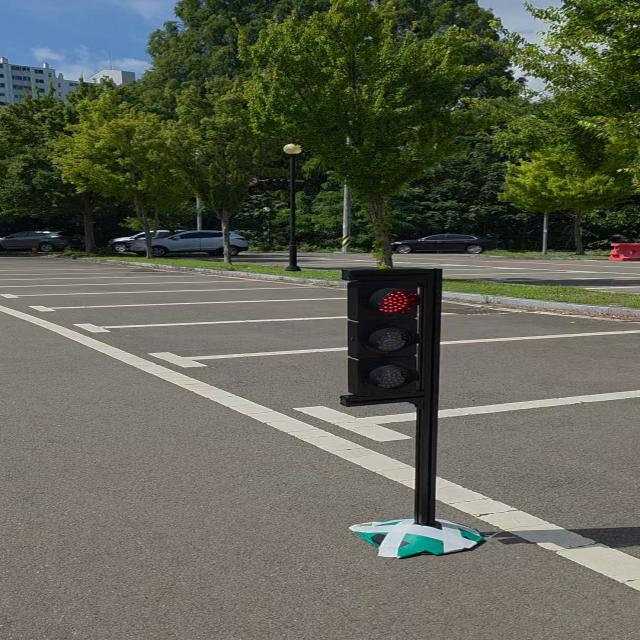red: (335, 275, 434, 403)
